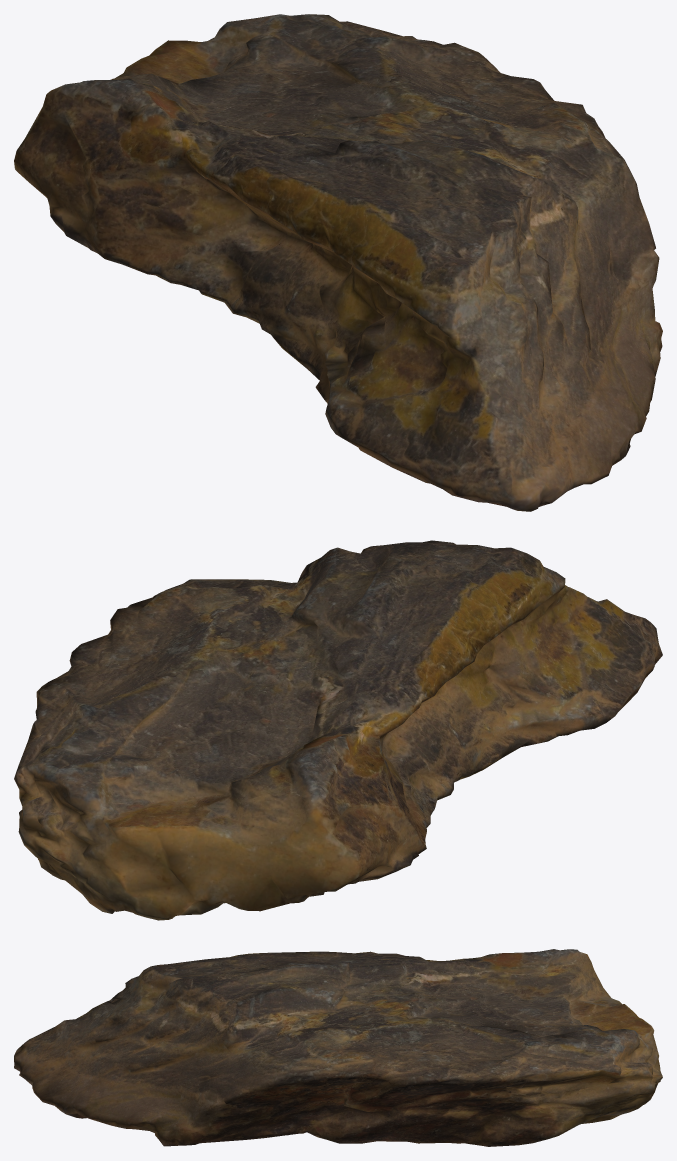
The model's file is rock_09.glb.
The picture shows the model from 3 angles, top to bottom: view 1: azimuth 30°, elevation 25°; view 2: azimuth 150°, elevation 25°; view 3: azimuth 270°, elevation 25°; orthographic projection. The views are drawn at different scales.
Visible parts, largest first — view 1: rock_09_LOD0; view 2: rock_09_LOD0; view 3: rock_09_LOD0.
Part boxes in pixels (left/top/right/bottom): rock_09_LOD0: left=14, top=14, right=662, bottom=511; rock_09_LOD0: left=14, top=540, right=662, bottom=920; rock_09_LOD0: left=14, top=949, right=662, bottom=1146.
Bounding box in the file's own units: 0.074 × 0.0328 × 0.1446.
1 material, 1 textured.
